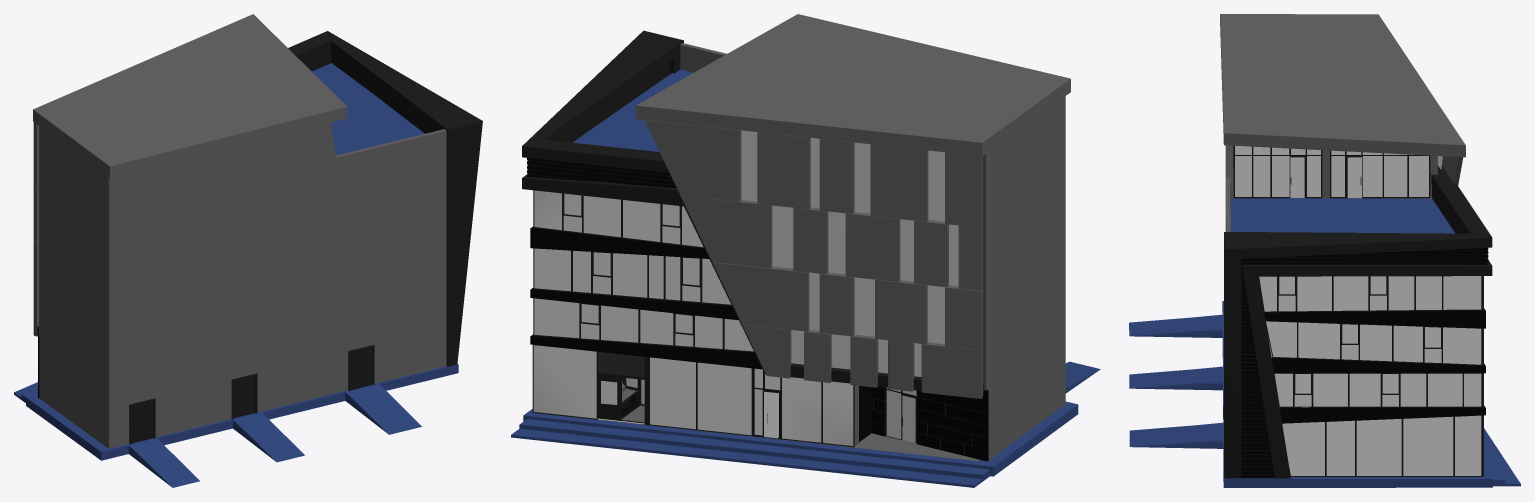
File: building.fbx
3 renders of one model, left to right at view 1: azimuth 30°, elevation 25°; view 2: azimuth 150°, elevation 25°; view 3: azimuth 270°, elevation 25°, orthographic. The views are drawn at different scales.
Parts seen in each view (by area): view 1: base, Box031, Line016, floor, Line018, Box1578969097, Box1578969096, Object008; view 2: Box031, vitre, base, Line017, frame, Line016, Box1578969095, floor, Line015, Box104, Line018; view 3: vitre, Box031, Line016, base, Line017, floor, Box104, Line015, frame, Line018.
Part boxes in pixels (x1,y1,x2,y2): base: (14, 122, 458, 487); Box031: (33, 14, 347, 336); Line016: (288, 31, 482, 366); floor: (312, 63, 424, 155); Line018: (303, 50, 435, 133); Box1578969097: (129, 398, 155, 444); Box1578969096: (231, 373, 257, 418); Object008: (351, 348, 372, 390); Box031: (635, 14, 1070, 398); vitre: (533, 130, 958, 445); base: (511, 43, 1100, 487); Line017: (530, 226, 762, 369); frame: (532, 190, 916, 447); Line016: (522, 30, 683, 172); Box1578969095: (859, 386, 988, 461); floor: (573, 69, 979, 461); Line015: (522, 174, 983, 394); Box104: (527, 158, 676, 188); Line018: (531, 62, 675, 185); vitre: (1235, 145, 1481, 475); Box031: (1220, 14, 1465, 185); Line016: (1224, 166, 1492, 478); base: (1129, 145, 1520, 487); Line017: (1241, 308, 1485, 423); floor: (1230, 198, 1455, 233); Box104: (1238, 247, 1488, 478); Line015: (1242, 260, 1492, 478); frame: (1233, 145, 1483, 476); Line018: (1241, 186, 1463, 474).
Size of the model in its own units: 23.17 by 20.11 by 16.96.
